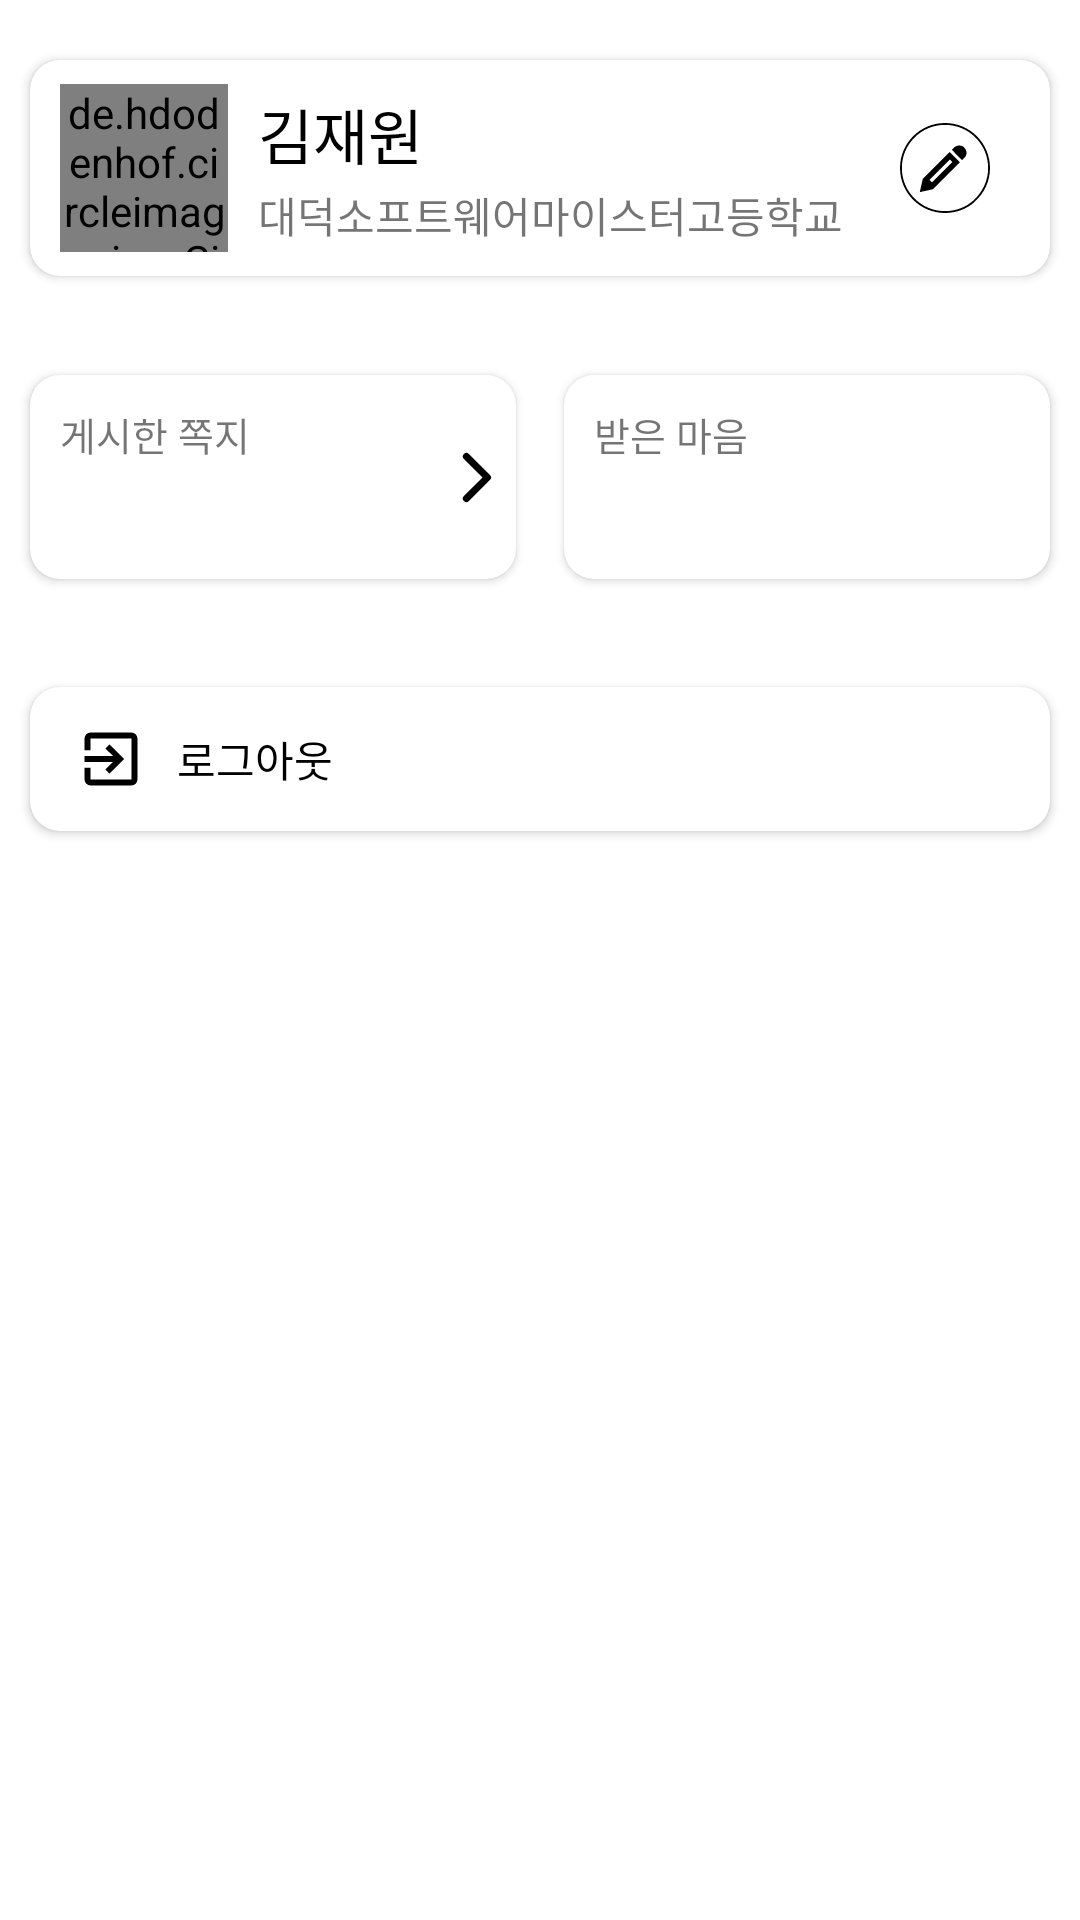

Where icons sit on this 1080 x 1920 app screen, as (x1, y1, x2, y2):
edit: (900, 123, 990, 213)
next: (462, 452, 492, 503)
